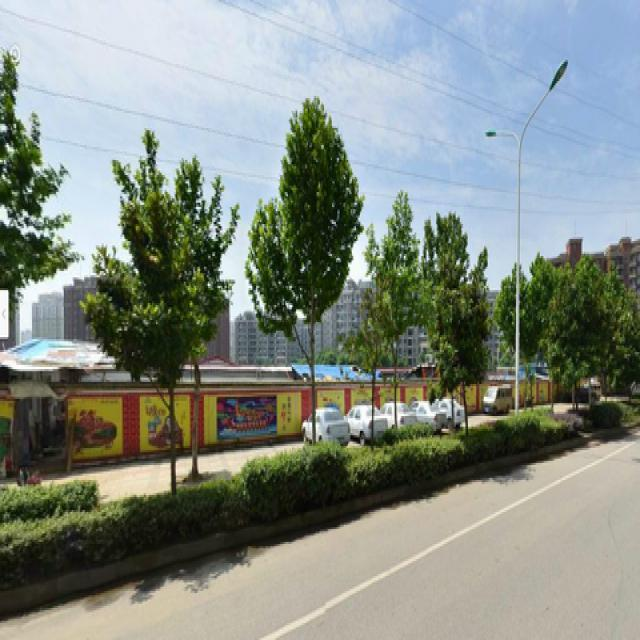meta: (100, 156, 220, 486), (257, 117, 351, 431)
